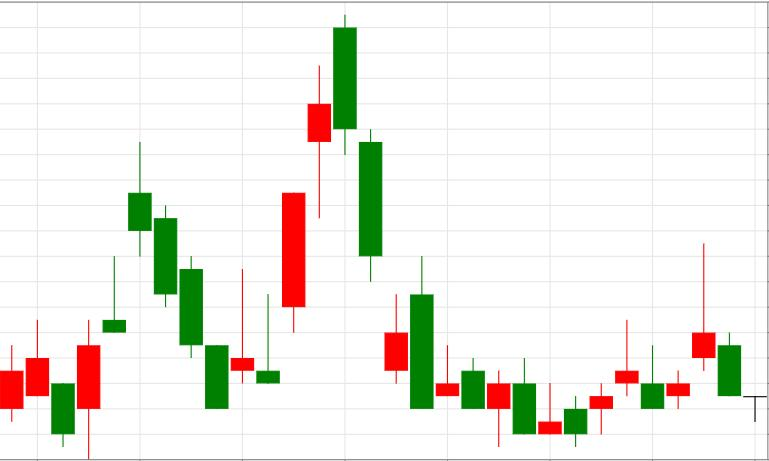shooting_star_fall: (538, 244, 715, 447)
